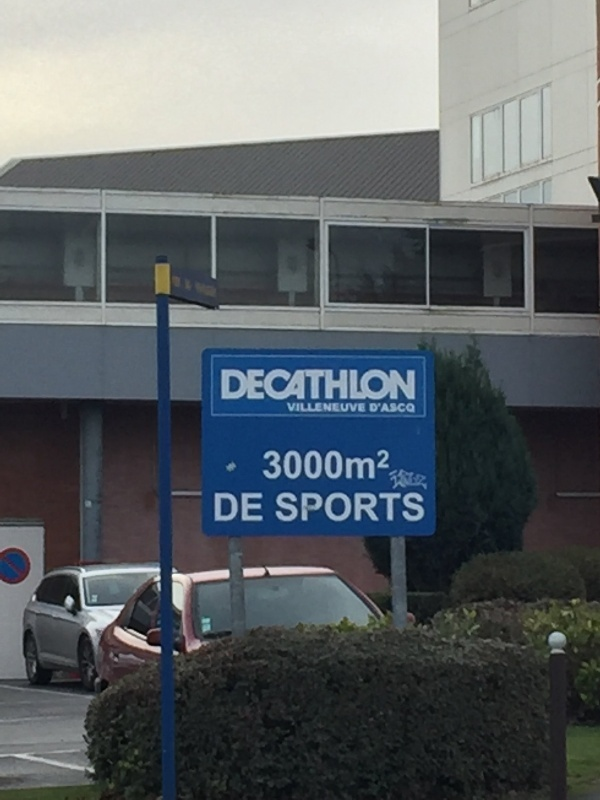text: (401, 368, 417, 403), (225, 368, 240, 403), (241, 368, 256, 403), (257, 368, 272, 403), (273, 368, 288, 403), (289, 368, 304, 403), (305, 368, 320, 403), (321, 368, 336, 403), (337, 368, 352, 403), (353, 368, 368, 403), (369, 368, 384, 403), (385, 368, 400, 403), (273, 446, 288, 481), (289, 446, 304, 481), (305, 446, 320, 481), (321, 446, 336, 481), (337, 446, 352, 481), (353, 446, 368, 481), (369, 446, 384, 481), (225, 491, 240, 523), (241, 491, 256, 523), (289, 492, 304, 524), (305, 492, 320, 524), (321, 492, 336, 524), (337, 492, 352, 524), (353, 492, 368, 524), (369, 492, 384, 524), (385, 492, 400, 524), (401, 492, 416, 524), (275, 492, 288, 524), (417, 492, 427, 524), (215, 491, 224, 523), (264, 446, 272, 481), (195, 282, 208, 300), (385, 446, 391, 481), (257, 491, 263, 523), (289, 402, 304, 413), (305, 402, 320, 413), (321, 402, 336, 413), (337, 402, 352, 413), (369, 403, 384, 414), (385, 403, 400, 414), (401, 403, 416, 414), (209, 282, 217, 300), (353, 402, 366, 413), (221, 368, 224, 403), (185, 278, 192, 292), (172, 275, 176, 288), (177, 275, 181, 288), (286, 402, 288, 413)
